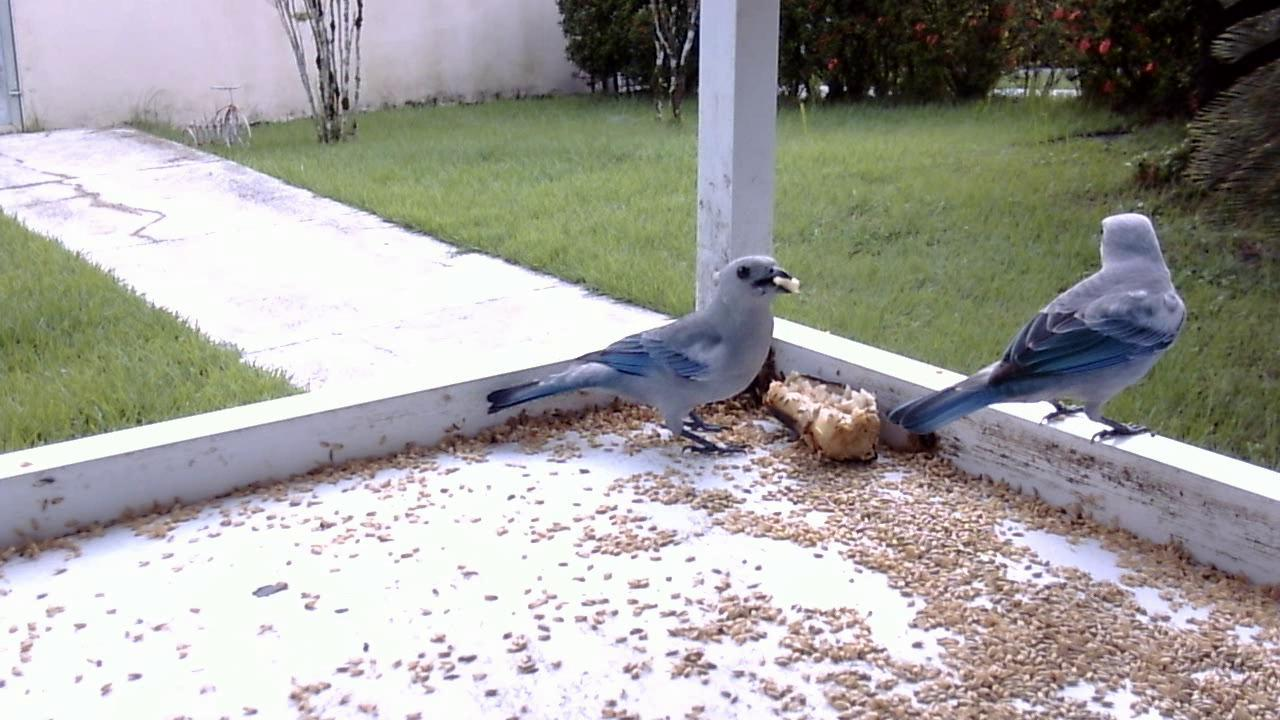sanhaco_da_amazonia: (878, 218, 1198, 458), (485, 252, 805, 463)
